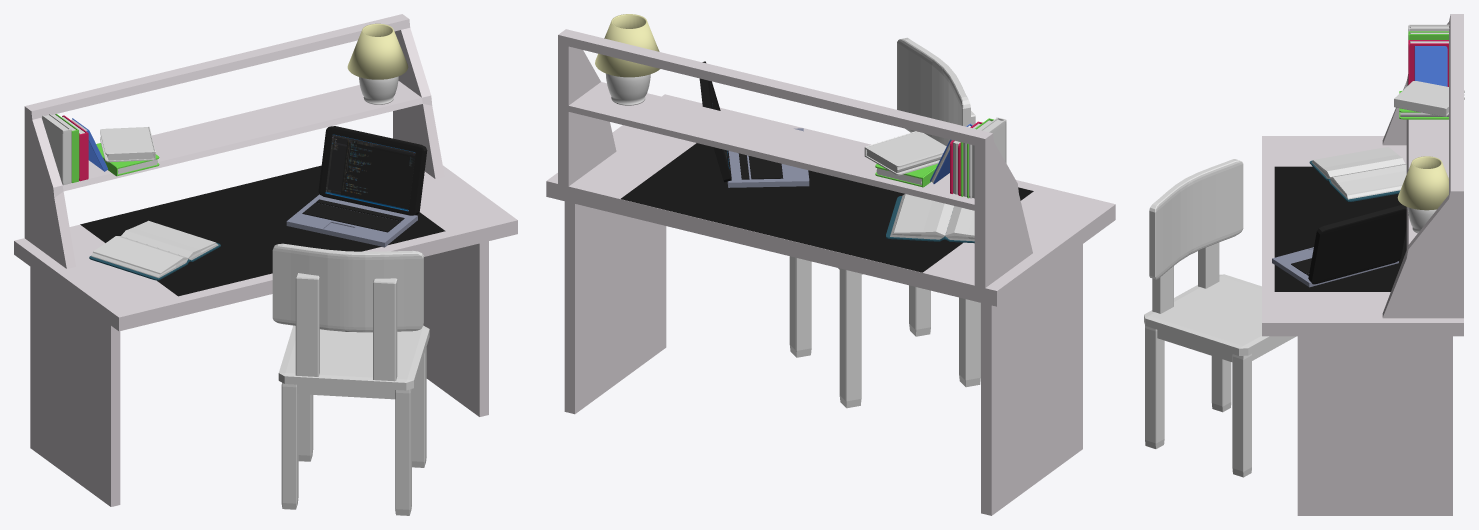
Rendered from comprDesk.glb.
3 renders of one model, left to right at view 1: azimuth 30°, elevation 25°; view 2: azimuth 150°, elevation 25°; view 3: azimuth 270°, elevation 25°, orthographic. The views are drawn at different scales.
Parts seen in each view (by area): view 1: desk, chair, Plane, Cube.005, Cube.006, Cylinder, Cube.002, Cube.001, Cube.013, Cube.008, Cube.003, Sphere (+3 smaller); view 2: desk, Plane, chair, Cube.006, Cube.013, Cylinder, Cube.001, Sphere, Cube.008, Cube.010, Cube.002, Cube.003 (+1 smaller); view 3: desk, chair, Plane, Cube.002, Cube.006, Cylinder, Cube.013, Cube.012, Cube.001, Cube.011, Sphere, Cube.010 (+1 smaller).
Boxes of the visible parts, x1,y1,x2,y2 form: desk: (14,14,517,506); chair: (272,243,429,515); Plane: (80,165,445,296); Cube.005: (325,134,415,211); Cube.006: (89,220,220,280); Cylinder: (347,23,408,79); Cube.002: (318,126,427,215); Cube.001: (286,194,417,247); Cube.013: (100,127,155,162); Cube.008: (42,114,71,185); Cube.003: (302,202,400,232); Sphere: (359,76,398,104); desk: (546,29,1115,515); Plane: (621,143,1033,272); chair: (789,37,980,408); Cube.006: (886,194,974,243); Cube.013: (864,131,946,175); Cylinder: (595,14,659,77); Cube.001: (727,128,809,187); Sphere: (605,73,650,105); Cube.008: (969,117,1006,198); Cube.010: (875,164,937,187); Cube.002: (699,61,731,182); Cube.003: (748,156,783,179); desk: (1262,14,1463,515); chair: (1144,159,1296,477); Plane: (1274,166,1406,291); Cube.002: (1308,205,1406,284); Cube.006: (1309,146,1406,201); Cylinder: (1397,156,1448,210); Cube.013: (1394,81,1464,116); Cube.012: (1414,46,1447,86); Cube.001: (1272,247,1398,287); Cube.011: (1408,40,1448,86); Sphere: (1407,207,1436,233); Cube.010: (1399,90,1448,119).
Bounding box in the file's own units: 4.69 × 3.93 × 3.4.
Materials: 14 (1 with a texture image).
